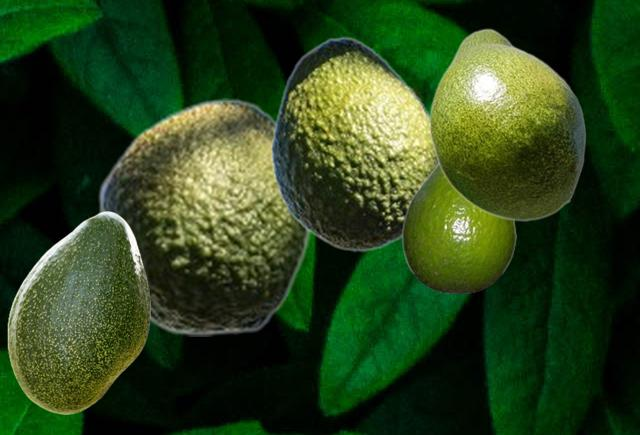avocado: (97, 98, 311, 335), (269, 36, 436, 251), (428, 28, 585, 221), (7, 211, 149, 413), (401, 162, 515, 292)
